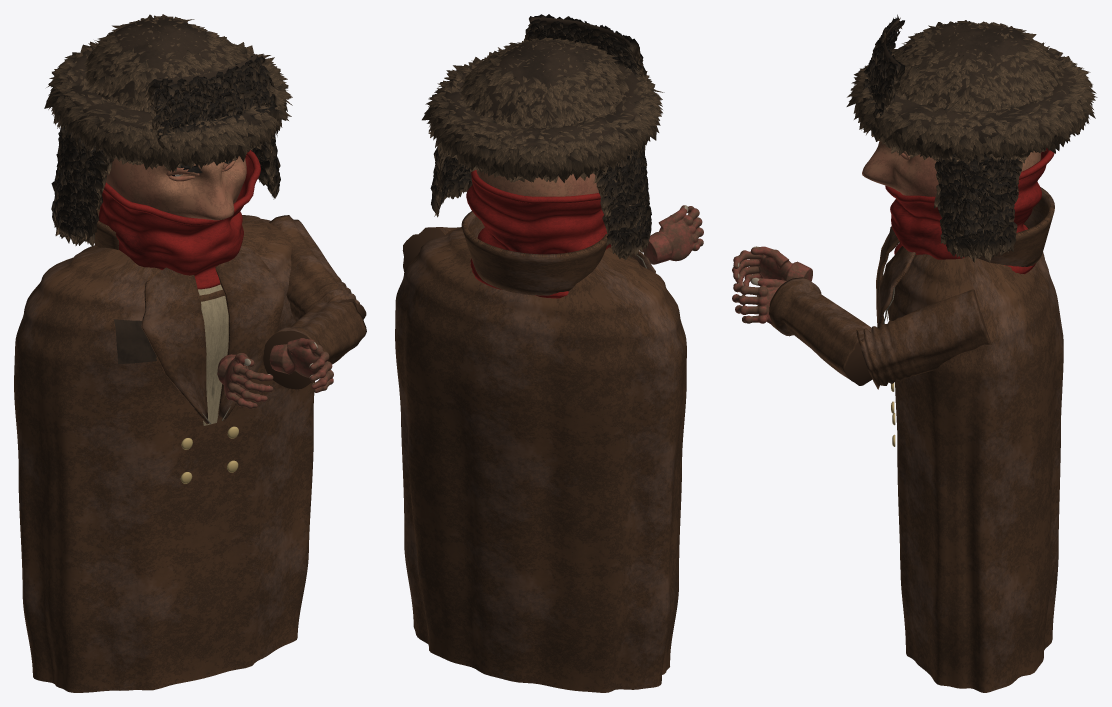
Rendered from bandit.glb.
3 renders of one model, left to right at view 1: azimuth 30°, elevation 25°; view 2: azimuth 150°, elevation 25°; view 3: azimuth 270°, elevation 25°, orthographic. The views are drawn at different scales.
Parts seen in each view (by area): view 1: Body, Hat_Fur, Scarf, Hat, Body_LapelL, Face, Body_LapelR, SleeveFore, SleeveUpper, Body_Shirt, Hand_R, Hand_L (+2 smaller); view 2: Body, Hat_Fur, Hat, Scarf, Body_Collar, Hand_L, Face, Scarf_Hem, SleeveUpper; view 3: Body, Hat_Fur, Hat, SleeveUpper, SleeveFore, Scarf, Face, Body_Collar, Hand_L, Hand_R, Body_LapelR, Scarf_Hem (+1 smaller).
Boxes of the visible parts, x1,y1,x2,y2 form: Body: (14, 215, 314, 692); Hat_Fur: (44, 14, 292, 246); Scarf: (98, 156, 253, 289); Hat: (56, 17, 279, 215); Body_LapelL: (141, 267, 208, 424); Face: (106, 156, 246, 220); Body_LapelR: (215, 252, 284, 419); SleeveFore: (263, 299, 366, 389); SleeveUpper: (269, 215, 366, 321); Body_Shirt: (198, 284, 228, 425); Hand_R: (269, 338, 333, 392); Hand_L: (217, 353, 273, 408); Body: (395, 226, 686, 692); Hat_Fur: (422, 14, 664, 259); Hat: (435, 17, 649, 230); Scarf: (466, 177, 611, 298); Body_Collar: (461, 211, 607, 295); Hand_L: (643, 205, 703, 264); Face: (476, 169, 598, 196); Scarf_Hem: (471, 170, 600, 203); SleeveUpper: (402, 227, 459, 271); Body: (887, 242, 1063, 692); Hat_Fur: (846, 14, 1097, 262); Hat: (859, 17, 1082, 150); SleeveUpper: (856, 289, 991, 389); SleeveFore: (769, 277, 872, 385); Scarf: (890, 148, 1048, 274); Face: (862, 140, 1041, 196); Body_Collar: (977, 187, 1054, 266); Hand_L: (732, 246, 812, 286); Hand_R: (732, 277, 786, 324); Body_LapelR: (877, 246, 915, 327); Scarf_Hem: (885, 150, 1054, 203).
Size of the model in its own units: 0.8797 by 1.81 by 0.997.
15 materials, 8 textured.
